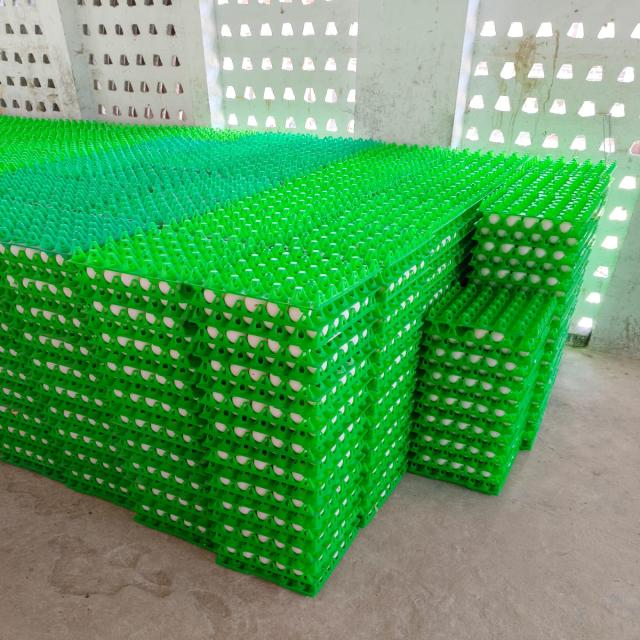egg_tray: (0, 135, 344, 252), (76, 208, 375, 308), (161, 212, 379, 338), (194, 228, 378, 344), (212, 0, 358, 136), (207, 412, 363, 538), (196, 320, 371, 428), (194, 296, 372, 400), (238, 145, 422, 243), (228, 146, 411, 244), (474, 161, 610, 292), (410, 349, 540, 486), (202, 326, 370, 432), (143, 128, 380, 198), (3, 246, 101, 412), (200, 287, 373, 381), (198, 334, 369, 428), (201, 328, 370, 423), (217, 474, 359, 581), (195, 317, 371, 397), (190, 278, 375, 354), (87, 298, 197, 420), (247, 219, 379, 320), (2, 251, 95, 393), (335, 174, 477, 267), (423, 283, 571, 372), (211, 464, 359, 553), (150, 127, 381, 184), (201, 388, 368, 466), (1, 117, 238, 171), (303, 190, 435, 286), (282, 145, 441, 224), (341, 148, 505, 224), (241, 136, 398, 215), (343, 203, 468, 301), (210, 468, 361, 549), (207, 448, 359, 528), (72, 395, 201, 487), (207, 432, 362, 508), (83, 282, 190, 392), (78, 267, 195, 366), (0, 186, 165, 256), (205, 415, 363, 488), (215, 133, 383, 201), (417, 336, 544, 422), (309, 198, 433, 286), (217, 501, 357, 575), (377, 209, 478, 310), (374, 232, 471, 335), (3, 278, 95, 386), (410, 401, 529, 484), (83, 272, 193, 361), (412, 380, 535, 459), (483, 158, 614, 232), (3, 289, 95, 394), (486, 162, 614, 237), (124, 442, 214, 548), (217, 528, 357, 596), (415, 351, 542, 424), (287, 181, 397, 264), (198, 412, 367, 466), (375, 224, 472, 317), (370, 271, 455, 377), (411, 403, 530, 478), (220, 519, 357, 584), (217, 532, 356, 596), (414, 154, 521, 237), (109, 405, 206, 496), (473, 223, 595, 295), (0, 117, 155, 173), (411, 404, 528, 478), (427, 285, 556, 352), (110, 406, 205, 496), (216, 507, 355, 568), (478, 185, 607, 249), (481, 183, 607, 246), (0, 288, 87, 378), (477, 190, 606, 250), (483, 183, 607, 245), (110, 404, 205, 484), (55, 411, 132, 508), (409, 430, 522, 494), (374, 232, 458, 317), (474, 227, 595, 286), (102, 350, 198, 423), (0, 245, 82, 330), (78, 267, 189, 328), (420, 331, 545, 385), (87, 313, 192, 377), (436, 152, 524, 228), (327, 143, 455, 193), (0, 244, 83, 321), (413, 391, 527, 447), (10, 318, 100, 388), (132, 478, 218, 551), (78, 262, 186, 319), (428, 172, 508, 248), (12, 313, 98, 383), (109, 400, 206, 462), (339, 144, 458, 194), (468, 285, 557, 350), (410, 182, 485, 259), (369, 296, 422, 400), (471, 251, 588, 298), (365, 319, 421, 416), (96, 345, 195, 398), (366, 321, 421, 415), (417, 377, 534, 421), (13, 320, 95, 381), (359, 426, 409, 526), (346, 144, 457, 189), (74, 256, 179, 303), (368, 318, 421, 411), (417, 358, 534, 400), (0, 205, 74, 271), (6, 248, 83, 311), (0, 405, 63, 478), (118, 426, 205, 478), (0, 404, 63, 474), (130, 504, 221, 552), (62, 444, 130, 508), (46, 401, 121, 459), (373, 263, 445, 323), (372, 290, 431, 363), (23, 345, 104, 398), (419, 214, 476, 288), (372, 290, 429, 364), (421, 233, 474, 310), (32, 358, 106, 413), (419, 194, 483, 257), (363, 403, 411, 485), (47, 404, 121, 457), (373, 279, 429, 348), (124, 459, 208, 505), (0, 314, 39, 413), (365, 374, 414, 452), (365, 375, 414, 452), (365, 358, 417, 429), (132, 473, 210, 520), (369, 328, 420, 399), (2, 253, 77, 301), (363, 412, 410, 488), (5, 289, 84, 333), (457, 149, 534, 194), (521, 359, 559, 449), (359, 457, 406, 528), (363, 384, 413, 450), (487, 156, 553, 203), (422, 248, 468, 313), (429, 212, 478, 272), (530, 340, 564, 414), (0, 242, 74, 276), (0, 442, 64, 481), (39, 375, 106, 412), (538, 311, 572, 383), (527, 350, 562, 419), (0, 443, 63, 481), (545, 286, 580, 353), (0, 316, 31, 385), (46, 171, 125, 198), (0, 368, 46, 414), (542, 298, 575, 362), (541, 305, 572, 368), (548, 286, 579, 339), (520, 396, 548, 450), (449, 352, 488, 386), (0, 258, 18, 327), (0, 321, 22, 361), (216, 436, 237, 463), (250, 463, 284, 478), (100, 239, 127, 257), (393, 261, 415, 276), (60, 316, 79, 330), (141, 364, 155, 381), (525, 377, 535, 399), (170, 376, 185, 390), (339, 298, 357, 308), (254, 422, 273, 431), (456, 156, 468, 170), (203, 148, 210, 169), (235, 213, 251, 222), (308, 322, 325, 330), (454, 314, 467, 324), (396, 208, 404, 224), (305, 467, 320, 475), (48, 220, 57, 232), (480, 180, 490, 190), (444, 285, 455, 294), (171, 382, 182, 390), (171, 420, 179, 430), (225, 283, 233, 292), (343, 141, 357, 146), (500, 384, 510, 391), (36, 181, 47, 187), (572, 289, 579, 298), (565, 162, 575, 168), (469, 356, 477, 363), (244, 286, 251, 294), (203, 312, 210, 320), (176, 374, 183, 382), (202, 291, 210, 298), (416, 400, 421, 411), (124, 369, 133, 375), (158, 373, 171, 377), (272, 410, 279, 417), (25, 171, 31, 179), (554, 255, 563, 260), (537, 350, 541, 361), (211, 454, 217, 461), (208, 316, 215, 322), (407, 190, 414, 196), (182, 153, 188, 160), (438, 216, 443, 224), (419, 243, 428, 247), (525, 222, 531, 228), (244, 488, 251, 493), (217, 193, 222, 200), (36, 378, 43, 383), (434, 189, 438, 197), (30, 299, 38, 303), (157, 379, 163, 384), (312, 234, 322, 237), (180, 412, 186, 417), (229, 495, 235, 500), (363, 329, 370, 333), (308, 335, 315, 339), (101, 447, 105, 454), (405, 246, 412, 250), (130, 416, 134, 423), (361, 270, 366, 275), (16, 266, 21, 271), (95, 305, 100, 310), (382, 344, 387, 349), (557, 161, 562, 166), (438, 295, 444, 299), (188, 463, 194, 467), (43, 406, 47, 412), (423, 150, 431, 153), (342, 496, 346, 502), (276, 162, 282, 166), (237, 262, 242, 266), (3, 327, 7, 332), (329, 411, 334, 415), (319, 231, 323, 236), (452, 176, 457, 180), (345, 271, 348, 277), (478, 487, 484, 490), (446, 376, 449, 382), (494, 459, 500, 462), (199, 478, 202, 484), (259, 306, 265, 309), (157, 380, 163, 383), (234, 428, 237, 434), (284, 136, 290, 139), (509, 222, 513, 226), (283, 404, 287, 408), (425, 298, 427, 306), (393, 280, 397, 284), (14, 306, 18, 310), (217, 422, 221, 426), (310, 316, 315, 319), (455, 351, 460, 354), (510, 222, 515, 225), (51, 214, 56, 217), (293, 411, 298, 414), (73, 359, 76, 364), (263, 507, 268, 510), (30, 371, 33, 376), (143, 148, 146, 153), (294, 480, 301, 482), (10, 293, 14, 296), (149, 185, 153, 188), (322, 143, 326, 146), (34, 222, 37, 226), (258, 408, 261, 412), (263, 380, 266, 384), (303, 378, 307, 381), (436, 186, 438, 192), (444, 167, 447, 171), (73, 323, 77, 326), (101, 470, 104, 474), (163, 128, 167, 131), (245, 450, 249, 453), (469, 471, 475, 473), (310, 140, 312, 145), (333, 204, 338, 206), (69, 318, 71, 323), (203, 378, 205, 383), (559, 350, 561, 355), (250, 452, 255, 454), (372, 188, 377, 190), (445, 168, 447, 173), (571, 293, 574, 296), (510, 378, 513, 381), (88, 184, 91, 187), (247, 327, 250, 330), (231, 334, 234, 337), (215, 313, 218, 316), (367, 409, 370, 412), (300, 474, 303, 477), (314, 257, 316, 261), (453, 376, 457, 378), (83, 192, 85, 196), (128, 444, 132, 446), (0, 176, 2, 180), (149, 472, 153, 474), (106, 390, 108, 394), (151, 166, 155, 168), (143, 148, 145, 152), (317, 326, 321, 328), (530, 394, 532, 398), (312, 234, 316, 236), (399, 203, 401, 206), (9, 185, 11, 188), (110, 176, 113, 178), (403, 265, 406, 267), (32, 389, 35, 391), (100, 261, 102, 264), (341, 408, 343, 411), (150, 238, 153, 240), (203, 381, 205, 384), (345, 318, 348, 320), (312, 231, 315, 233), (203, 355, 205, 358), (23, 254, 25, 257), (194, 482, 197, 484), (561, 298, 564, 300), (221, 530, 223, 533), (127, 418, 129, 421), (4, 254, 7, 256), (99, 456, 101, 459), (28, 407, 31, 409), (451, 258, 454, 260), (95, 249, 98, 251), (454, 466, 457, 468), (389, 193, 391, 196), (322, 464, 325, 466), (439, 221, 441, 224), (470, 354, 473, 356), (158, 453, 163, 454), (143, 509, 148, 510), (34, 312, 36, 314), (323, 334, 325, 336), (31, 248, 33, 250), (538, 349, 540, 351), (293, 416, 295, 418), (255, 398, 257, 400), (334, 327, 336, 329), (203, 353, 205, 355), (121, 274, 123, 276), (141, 438, 143, 440), (21, 371, 23, 373), (150, 405, 154, 406), (40, 300, 42, 302), (525, 240, 527, 242), (509, 156, 513, 157), (244, 422, 246, 424), (245, 489, 249, 490), (259, 460, 261, 462), (350, 212, 352, 214), (268, 136, 270, 138), (179, 501, 181, 503), (273, 567, 276, 568), (264, 562, 267, 563), (314, 305, 317, 306), (505, 387, 508, 388), (386, 376, 389, 377), (33, 249, 36, 250), (500, 380, 503, 381), (444, 369, 447, 370), (244, 225, 247, 226), (205, 398, 206, 401), (203, 377, 204, 380), (265, 309, 266, 312), (129, 441, 132, 442), (169, 322, 170, 325), (282, 434, 283, 437), (365, 453, 366, 456), (399, 152, 402, 153), (295, 136, 298, 137), (528, 178, 530, 179), (468, 285, 470, 286), (312, 205, 314, 206), (509, 158, 510, 160), (234, 352, 236, 353), (185, 498, 187, 499), (182, 455, 183, 457), (74, 287, 75, 289), (212, 398, 214, 399), (44, 254, 46, 255), (114, 278, 115, 280), (160, 283, 162, 284), (489, 188, 490, 190), (438, 260, 439, 262), (78, 258, 79, 260), (151, 128, 153, 129), (252, 447, 254, 448), (324, 427, 326, 428), (341, 414, 343, 415), (260, 464, 261, 466), (271, 169, 272, 171), (102, 293, 104, 294), (234, 354, 235, 355), (401, 267, 402, 268), (485, 487, 486, 488), (431, 365, 432, 366), (204, 380, 205, 381), (274, 336, 275, 337), (145, 374, 146, 375), (198, 485, 199, 486), (422, 189, 423, 190), (398, 329, 399, 330), (382, 336, 383, 337), (323, 429, 324, 430), (454, 182, 455, 183), (358, 442, 359, 443), (296, 476, 297, 477), (454, 467, 455, 468), (541, 345, 542, 346), (169, 498, 170, 499), (292, 498, 292, 499), (443, 316, 443, 317), (358, 270, 359, 270), (234, 353, 234, 354), (341, 346, 344, 346), (172, 150, 174, 150), (589, 248, 590, 248), (494, 385, 494, 387), (490, 378, 490, 379), (437, 372, 439, 372), (430, 372, 433, 372), (205, 314, 208, 314), (361, 225, 361, 226), (299, 420, 299, 421), (315, 394, 317, 394), (356, 312, 356, 312), (297, 374, 298, 374), (240, 432, 241, 432), (163, 288, 163, 288), (21, 372, 22, 372), (250, 414, 250, 414), (245, 408, 246, 408), (38, 281, 40, 281), (10, 280, 10, 281), (12, 354, 12, 354), (121, 408, 121, 408), (431, 276, 432, 276), (372, 384, 372, 386), (299, 572, 299, 572), (245, 448, 246, 448), (343, 300, 343, 302), (272, 240, 272, 242), (227, 550, 228, 550), (224, 501, 226, 501), (283, 516, 283, 517), (243, 503, 244, 503), (292, 461, 292, 464), (220, 434, 221, 434), (465, 209, 465, 210), (332, 223, 333, 223), (462, 190, 463, 190), (454, 172, 455, 172), (454, 163, 454, 163), (449, 163, 450, 163), (241, 525, 241, 526), (196, 510, 199, 510)
